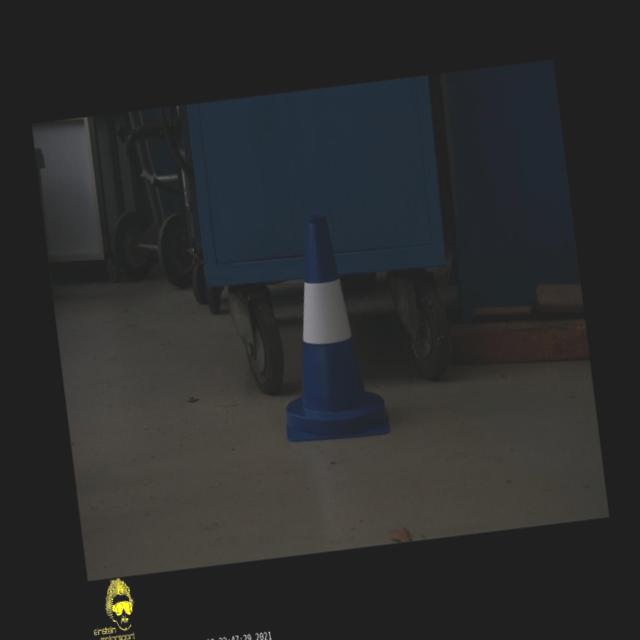blue_cone: (261, 210, 390, 446)
